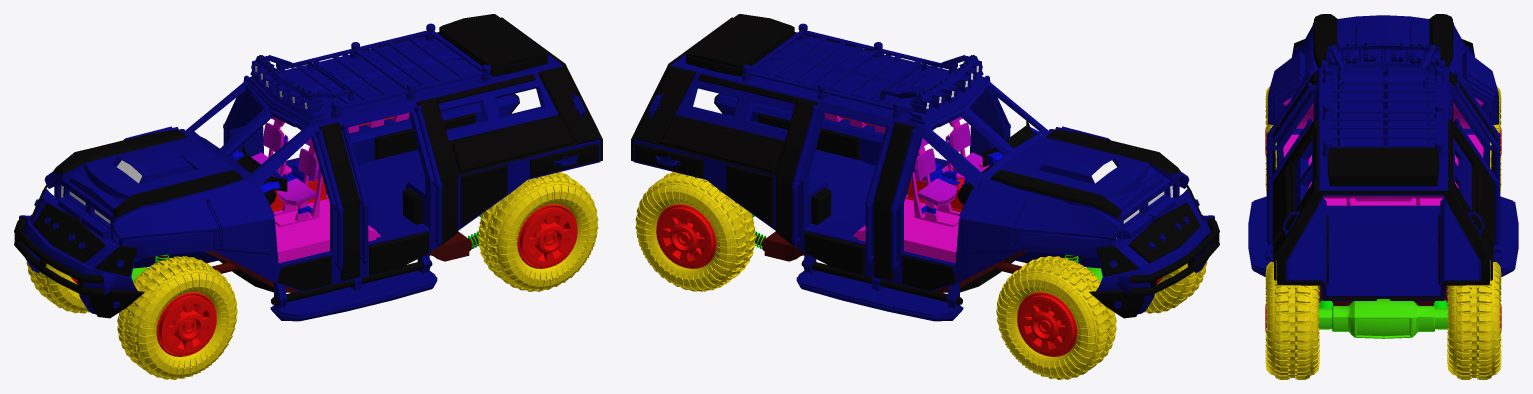
The model's file is New_crawler.fbx.
The picture shows the model from 3 angles, left to right: view 1: azimuth 30°, elevation 25°; view 2: azimuth 150°, elevation 25°; view 3: azimuth 270°, elevation 25°; orthographic projection.
Visible parts, largest first — view 1: Hull_base, Wheel_base.002, Wheel_base.004, Bumper, Front_side_covers, Lid_mesh, Step_bar, Back_box, Roof_cylinders, Interior_floor, Pilot_chair, Roof_lights_rack (+8 smaller); view 2: Hull_base, Wheel_base.001, Wheel_base.003, Bumper, Front_side_covers, Lid_mesh, Step_bar, Back_box, Roof_cylinders, Interior_floor, Pilot_chair, Roof_lights_rack (+8 smaller); view 3: Hull_base, Wheel_base.003, Wheel_base.004, Back_box, Chasis_base, Roof_cylinders, Front_side_covers, Lid_mesh, Step_bar, Roof_lights_rack, Interior_floor, Side_pole (+8 smaller).
Boxes of the visible parts, box(x1,y1,x2,y2) form: Hull_base: box(54, 17, 602, 291); Wheel_base.002: box(117, 256, 237, 379); Wheel_base.004: box(478, 172, 598, 291); Bumper: box(14, 185, 144, 318); Front_side_covers: box(44, 126, 274, 254); Lid_mesh: box(52, 129, 243, 221); Step_bar: box(270, 253, 437, 321); Back_box: box(439, 14, 547, 76); Roof_cylinders: box(284, 30, 484, 109); Interior_floor: box(202, 112, 409, 263); Pilot_chair: box(251, 117, 322, 226); Roof_lights_rack: box(246, 55, 353, 126); Hull_base: box(631, 17, 1179, 291); Wheel_base.001: box(996, 256, 1116, 379); Wheel_base.003: box(635, 172, 755, 291); Bumper: box(1089, 185, 1219, 318); Front_side_covers: box(959, 126, 1189, 254); Lid_mesh: box(990, 129, 1181, 221); Step_bar: box(796, 253, 963, 321); Back_box: box(686, 14, 794, 76); Roof_cylinders: box(749, 30, 949, 109); Interior_floor: box(824, 112, 995, 263); Pilot_chair: box(911, 117, 989, 226); Roof_lights_rack: box(880, 55, 987, 126); Hull_base: box(1272, 20, 1494, 300); Wheel_base.003: box(1447, 260, 1501, 379); Wheel_base.004: box(1265, 260, 1319, 379); Back_box: box(1327, 147, 1439, 186); Chasis_base: box(1318, 285, 1448, 338); Roof_cylinders: box(1325, 75, 1441, 147); Front_side_covers: box(1268, 23, 1498, 124); Lid_mesh: box(1313, 14, 1453, 68); Step_bar: box(1248, 196, 1518, 276); Roof_lights_rack: box(1321, 43, 1445, 88); Interior_floor: box(1283, 97, 1483, 205); Side_pole: box(1266, 118, 1500, 244).
Bounding box in the file's own units: 314 × 685 × 293.
